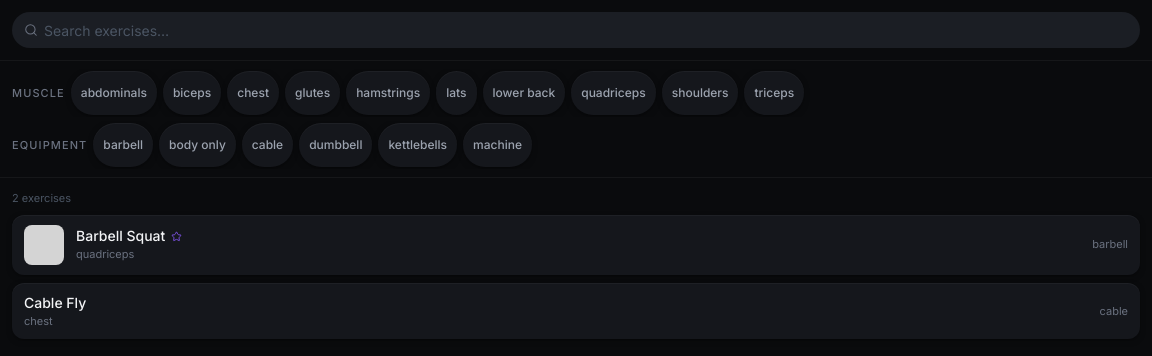
ExerciseLibrary › P29: catalog load failure vs empty search › an empty search still shows the plain 'no results' text, not an error card
This screenshot has width=1152, height=356.
Expected: the button with test id "exercise-row-barbell-squat" is shown, [12, 214, 1140, 274]
Type "nonexistent-exercise-zzz" into the search field labelled "Search exercises" at (576, 30), box [12, 12, 1140, 48]
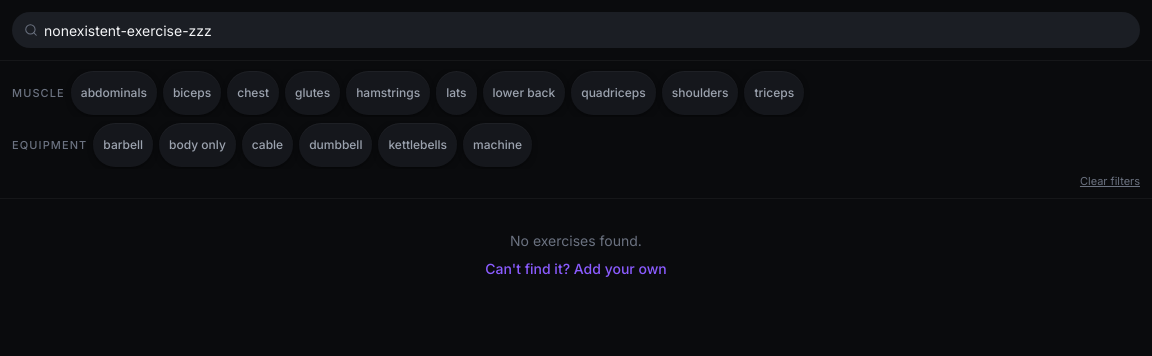
Expected: the text "No exercises found." is shown, [510, 230, 642, 250]
